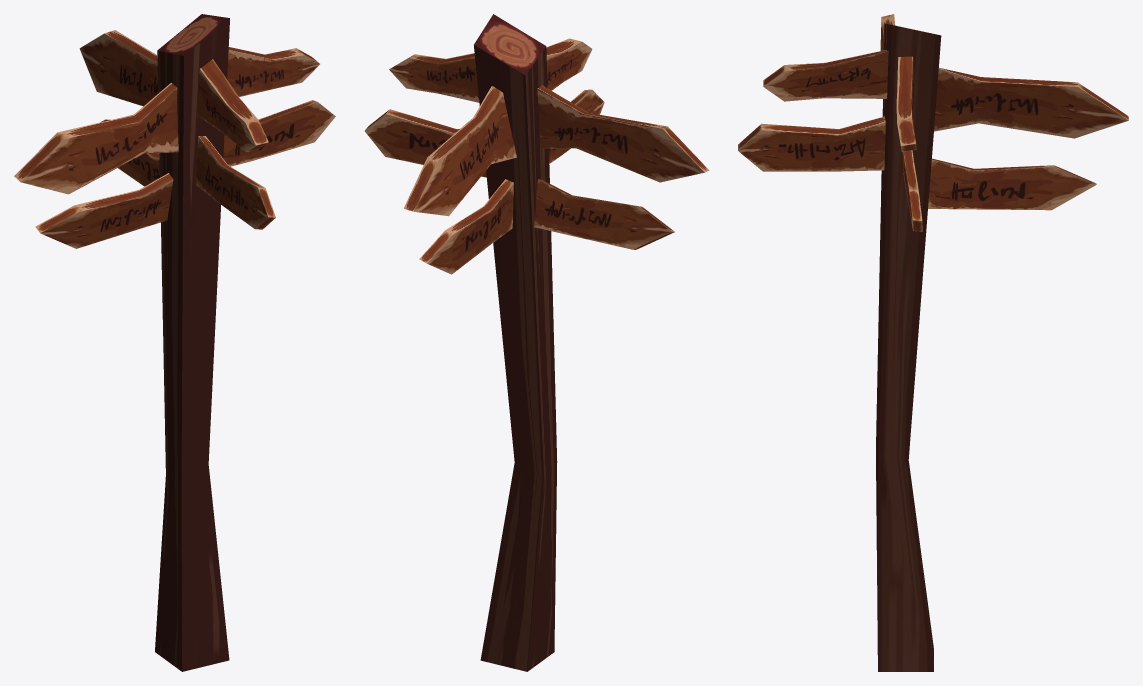
The model's file is SM_PROP_signpost_03.glb.
3 views of the same model, side by side, from view 1: azimuth 30°, elevation 25°; view 2: azimuth 150°, elevation 25°; view 3: azimuth 270°, elevation 25° (orthographic). The views are drawn at different scales.
Parts seen in each view (by area): view 1: SM_PROP_signpost_03_EXPORT; view 2: SM_PROP_signpost_03_EXPORT; view 3: SM_PROP_signpost_03_EXPORT.
Part boxes in pixels (bbox=[...]): SM_PROP_signpost_03_EXPORT: bbox=[14, 14, 335, 671]; SM_PROP_signpost_03_EXPORT: bbox=[365, 14, 709, 671]; SM_PROP_signpost_03_EXPORT: bbox=[738, 14, 1128, 671].
Bounding box in the file's own units: 2.39 × 4.38 × 2.39.
Materials: 3 (3 with a texture image).
